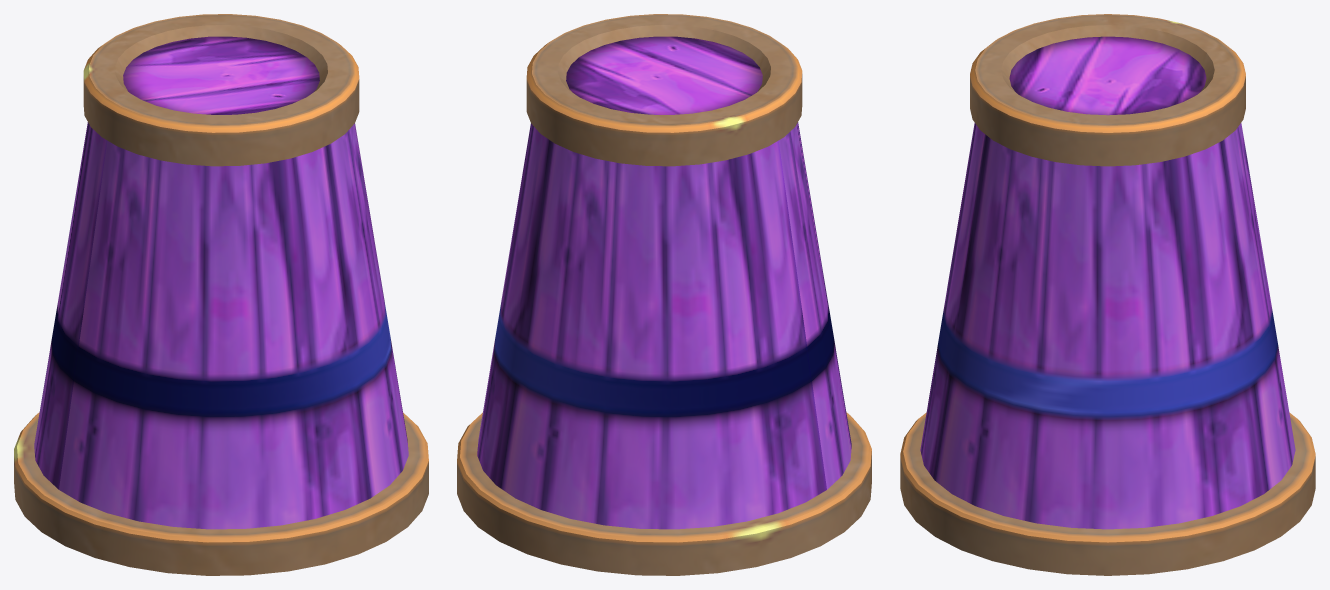
File: Cup_05.glb
The picture shows the model from 3 angles, left to right: view 1: azimuth 30°, elevation 25°; view 2: azimuth 150°, elevation 25°; view 3: azimuth 270°, elevation 25°; orthographic projection.
Parts seen in each view (by area): view 1: Cylinder; view 2: Cylinder; view 3: Cylinder.
Boxes of the visible parts, x1=… form: Cylinder: x1=14, y1=14, x2=428, y2=575; Cylinder: x1=457, y1=14, x2=871, y2=575; Cylinder: x1=900, y1=14, x2=1315, y2=575.
Bounding box in the file's own units: 2.22 × 2.46 × 2.22.
1 material, 1 textured.
